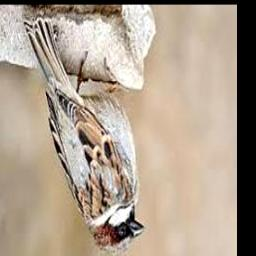Sparrow: (24, 18, 145, 256)
